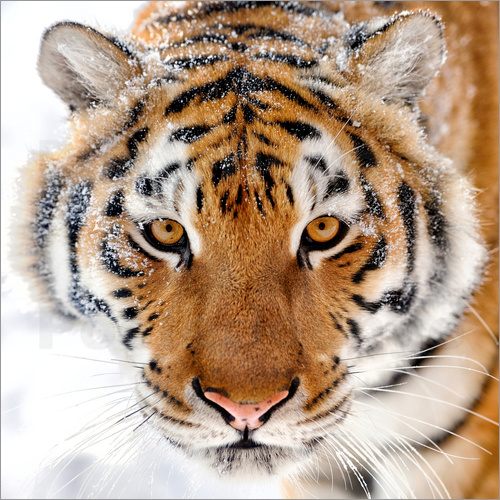Tiger: (30, 15, 495, 446)
